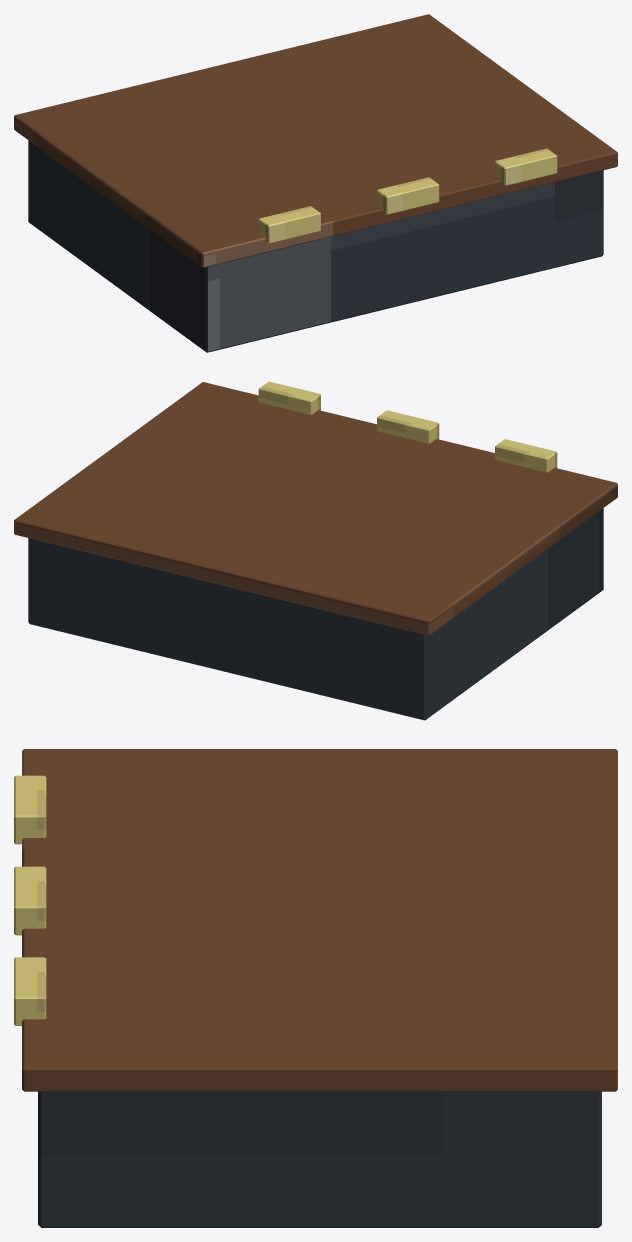
Rendered from stage_platform.glb.
3 views of the same model, one above another, from view 1: azimuth 30°, elevation 25°; view 2: azimuth 150°, elevation 25°; view 3: azimuth 270°, elevation 25° (orthographic). The views are drawn at different scales.
Parts seen in each view (by area): view 1: StageTop, StageBase, Footlight_0.8, Footlight_0, Footlight_-0.8; view 2: StageTop, StageBase, Footlight_0, Footlight_0.8, Footlight_-0.8; view 3: StageTop, StageBase, Footlight_-0.8, Footlight_0, Footlight_0.8.
Boxes of the visible parts, left/top/right/bottom form: StageTop: left=14, top=14, right=617, bottom=267; StageBase: left=28, top=140, right=603, bottom=352; Footlight_0.8: left=495, top=148, right=557, bottom=185; Footlight_0: left=377, top=177, right=439, bottom=214; Footlight_-0.8: left=258, top=206, right=320, bottom=243; StageTop: left=14, top=382, right=617, bottom=635; StageBase: left=28, top=508, right=603, bottom=720; Footlight_0: left=377, top=410, right=439, bottom=443; Footlight_0.8: left=258, top=381, right=320, bottom=414; Footlight_-0.8: left=495, top=439, right=557, bottom=472; StageTop: left=22, top=749, right=617, bottom=1091; StageBase: left=38, top=1091, right=601, bottom=1227; Footlight_-0.8: left=14, top=775, right=46, bottom=844; Footlight_0: left=14, top=866, right=46, bottom=935; Footlight_0.8: left=14, top=957, right=46, bottom=1025.
Bounding box in the file's own units: 2.82 × 0.78 × 2.25.
Materials: 1 (1 with a texture image).
